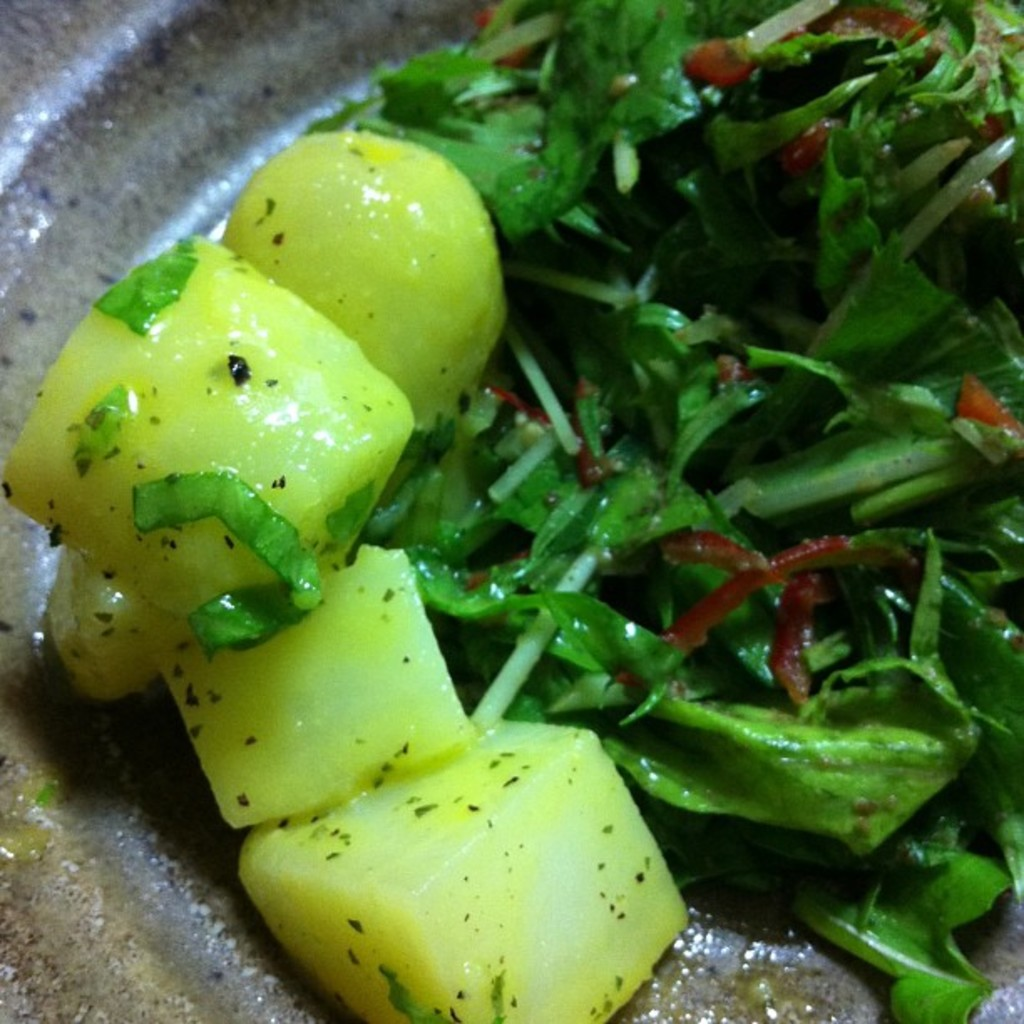salad: (0, 0, 1022, 1022)
